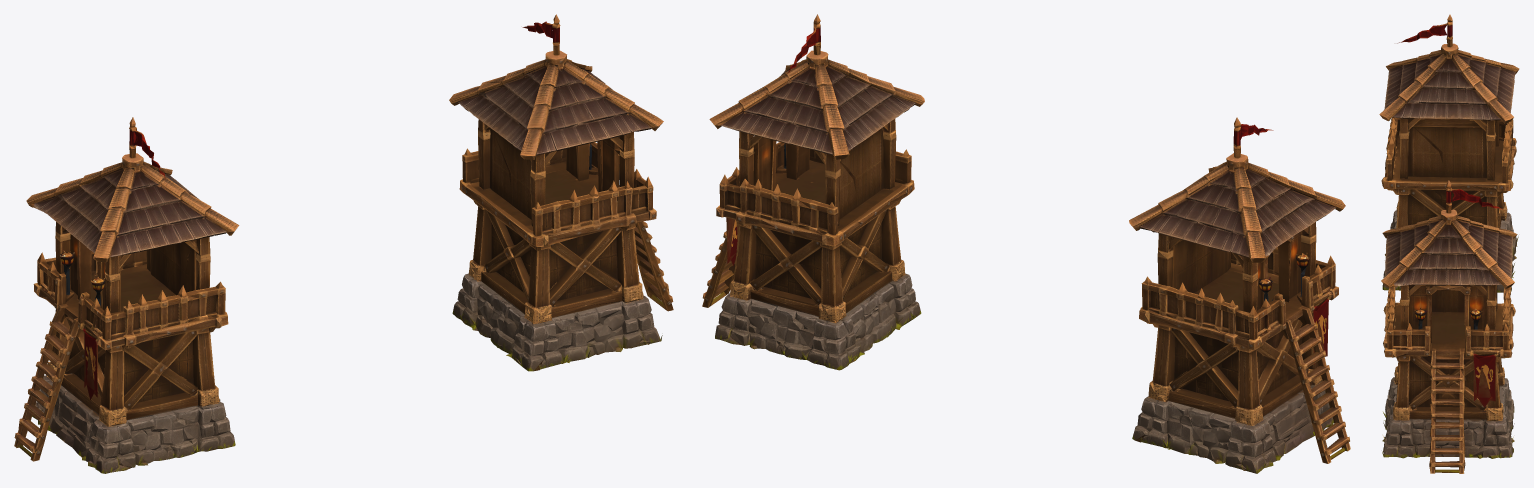
File: archer_towers.glb
3 views of the same model, side by side, from view 1: azimuth 30°, elevation 25°; view 2: azimuth 150°, elevation 25°; view 3: azimuth 270°, elevation 25° (orthographic). The views are drawn at different scales.
Parts seen in each view (by area): view 1: Archertower, Archertower.001; view 2: Archertower.001, Archertower; view 3: Archertower, Archertower.001.
Part boxes in pixels (left/top/right/bottom): Archertower: left=449, top=14, right=673, bottom=371; Archertower.001: left=14, top=117, right=239, bottom=473; Archertower.001: left=1129, top=117, right=1350, bottom=473; Archertower: left=702, top=14, right=924, bottom=370; Archertower: left=1381, top=180, right=1517, bottom=473; Archertower.001: left=1379, top=14, right=1519, bottom=292.
Size of the model in its own units: 2.02 by 0.9515 by 0.48.
1 material, 1 textured.
